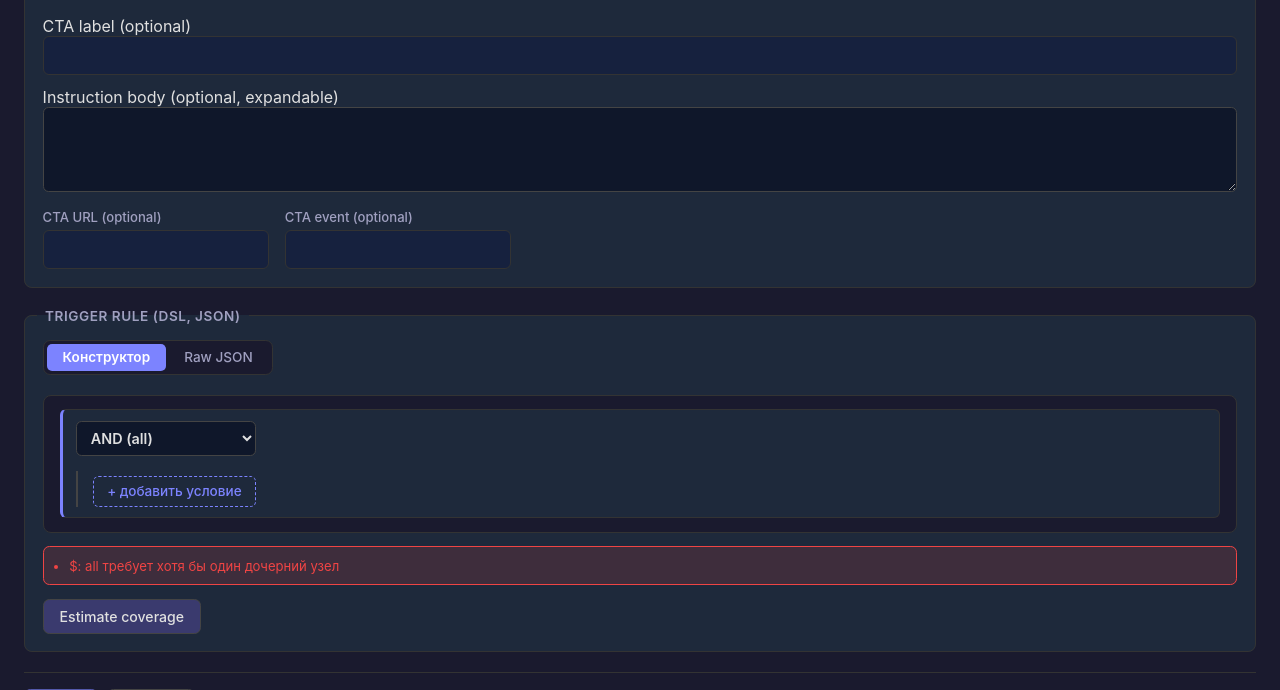
Test: AdminHintEditPage (KS-4706) › KS-4830: по умолчанию открывается конструктор; кнопка переключения на Raw JSON работает
The width and height of the screenshot is (1280, 690).
(page scrolled)
Expected: the element with test id "rule-builder" is shown, 43,395 -> 1237,533
What coordinates should you click on to do the following:
click the button with test id "admin-hint-form-rule-mode-raw"
I would click on:
 (218, 357)
Its box is 168,344 -> 269,371.
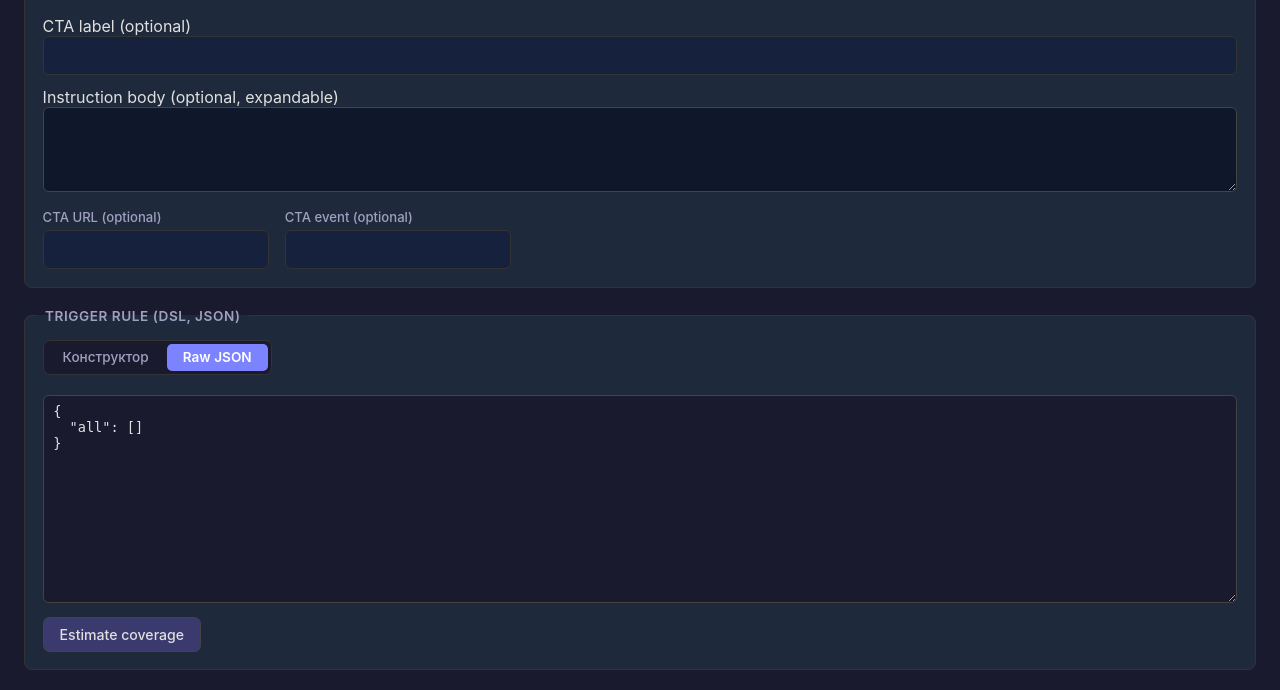
Result: the element with test id "rule-builder" is gone
